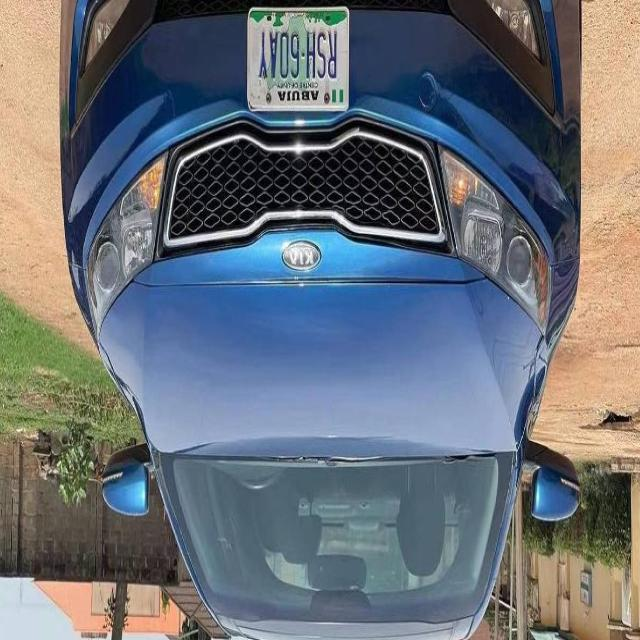Nigerian License Plate - vdataset benjamin-daria: (245, 0, 351, 119)
